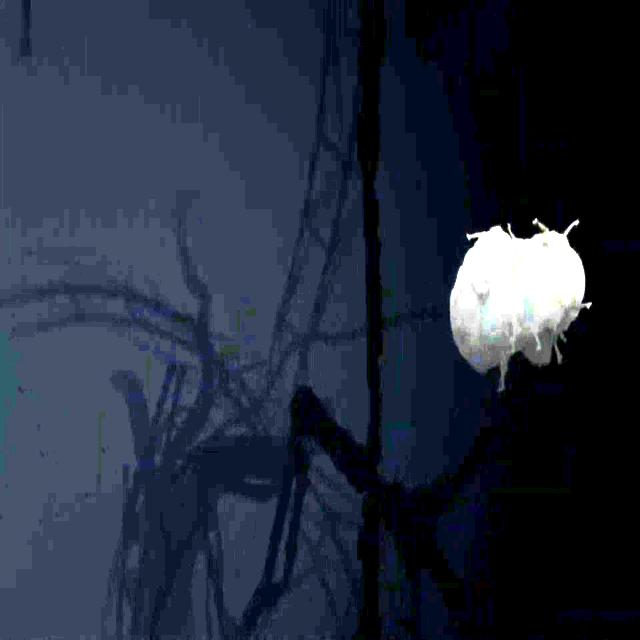blob: (453, 219, 589, 390)
